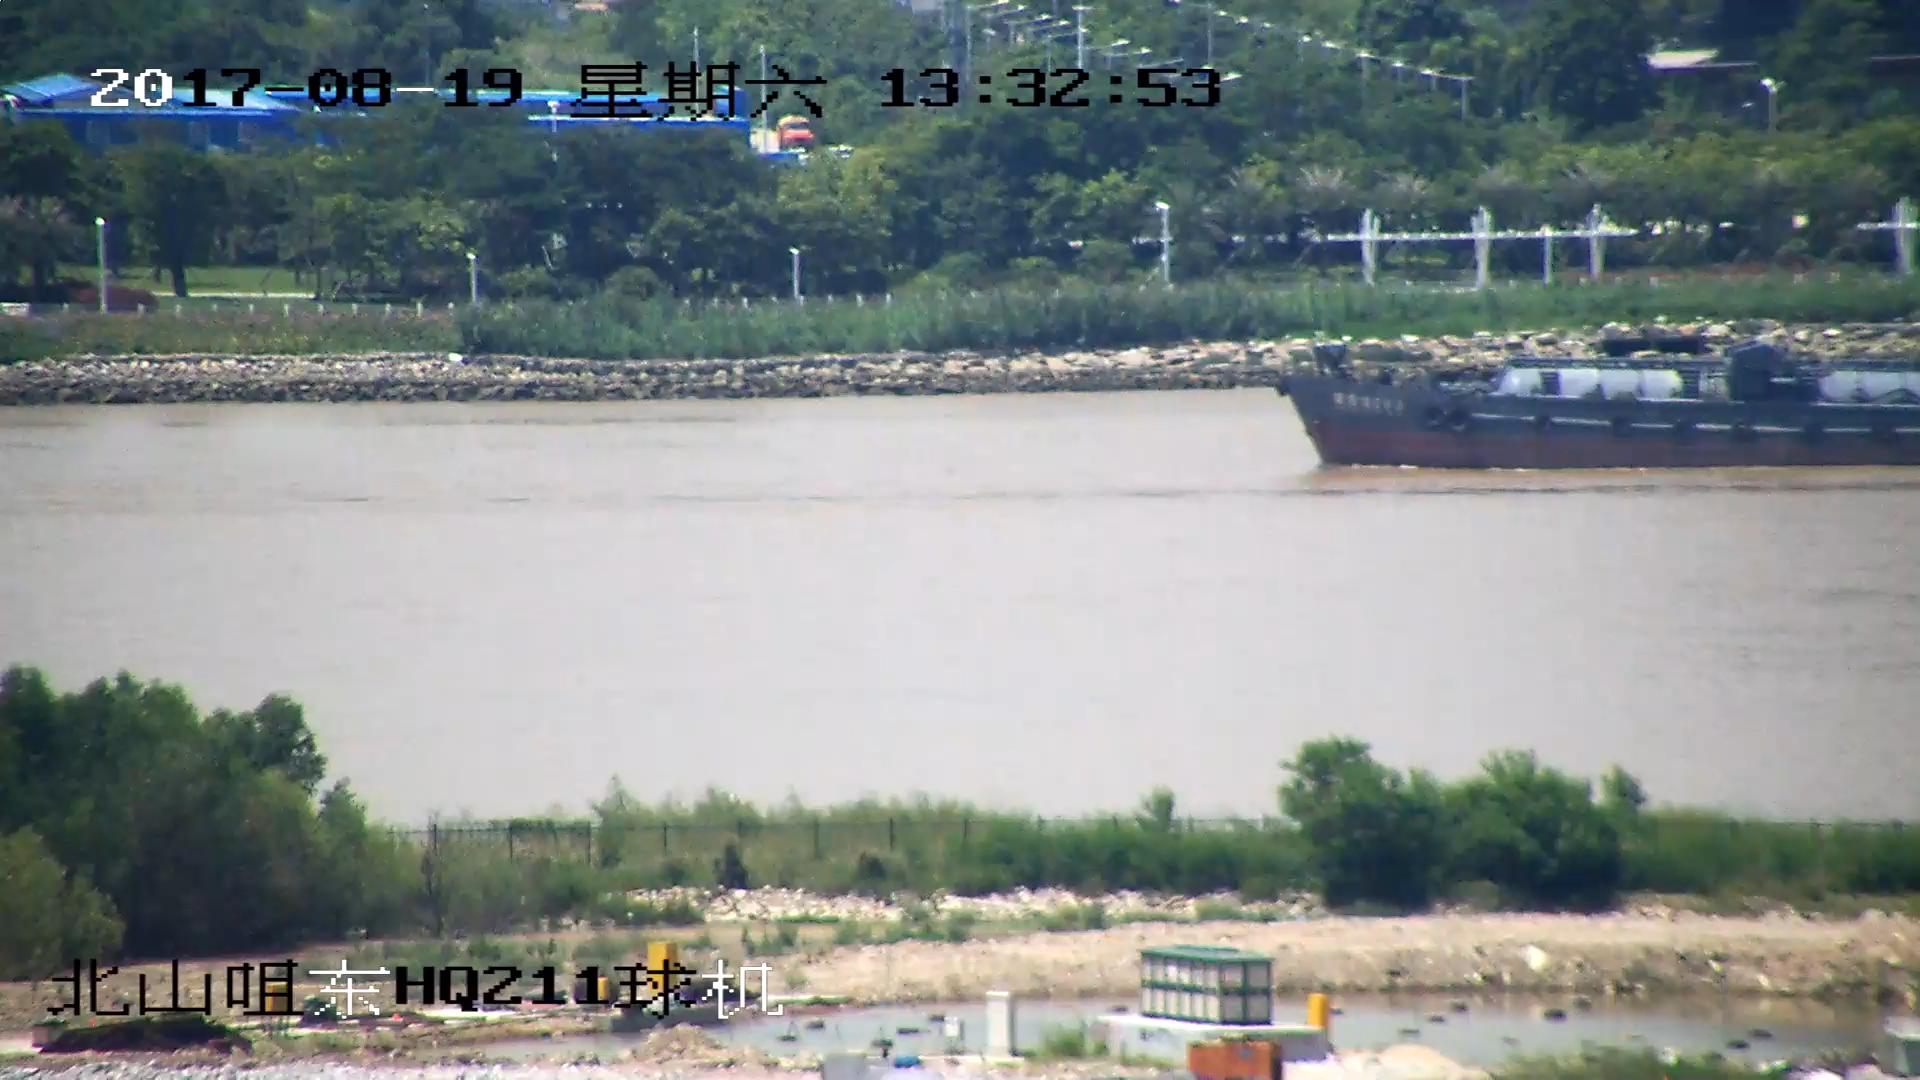bulk cargo carrier: (1272, 345, 1920, 465)
